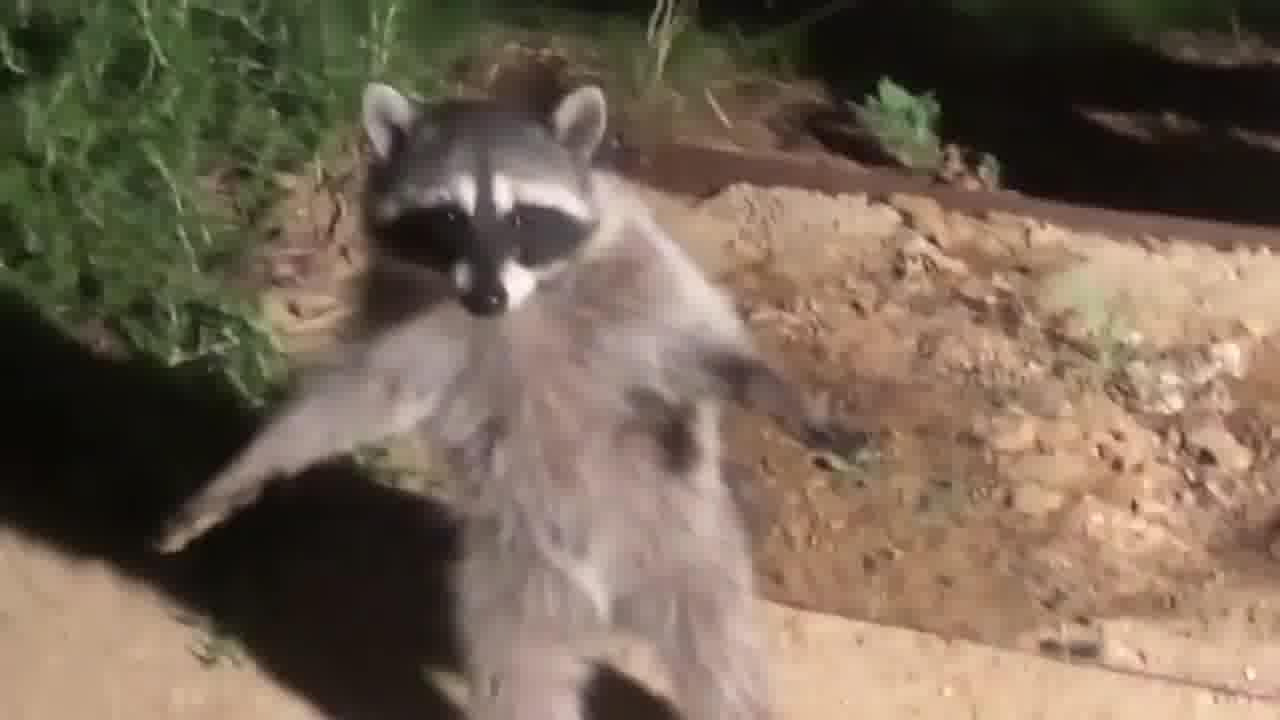raccoon: (152, 73, 883, 720)
